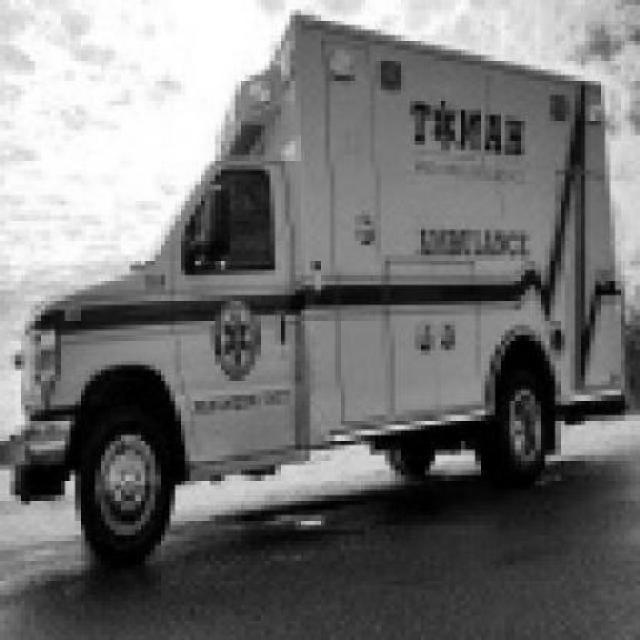Ambulance: (2, 14, 626, 571)
